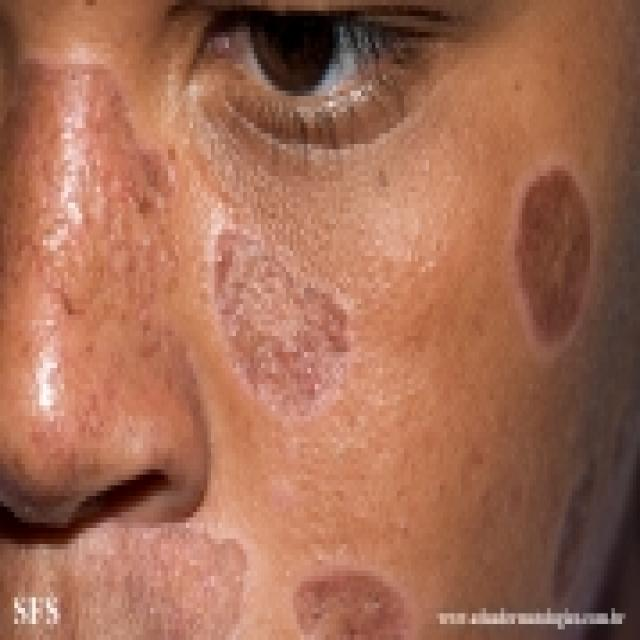lupus: (2, 41, 416, 640), (496, 136, 618, 416)
